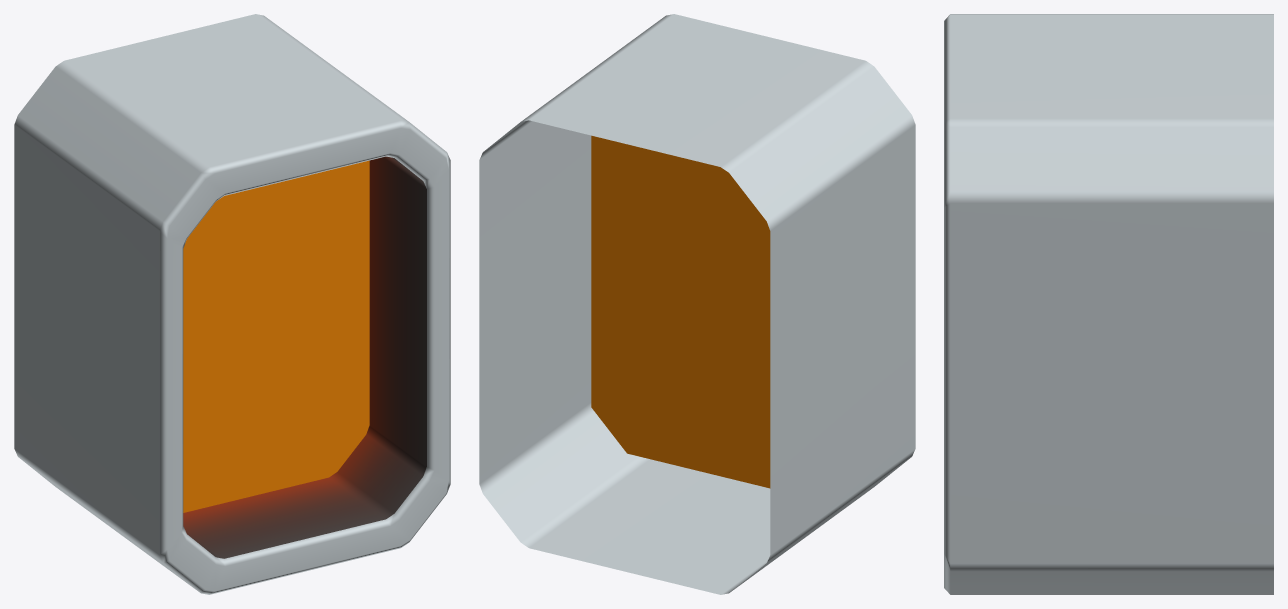
The model's file is heatsink_001.fbx.
3 renders of one model, left to right at view 1: azimuth 30°, elevation 25°; view 2: azimuth 150°, elevation 25°; view 3: azimuth 270°, elevation 25°, orthographic. The views are drawn at different scales.
Parts seen in each view (by area): view 1: heatsink_001; view 2: heatsink_001; view 3: heatsink_001.
Boxes of the visible parts, bbox=[...] form: heatsink_001: bbox=[14, 14, 450, 594]; heatsink_001: bbox=[479, 14, 915, 594]; heatsink_001: bbox=[944, 14, 1273, 594].
Size of the model in its own units: 421 by 372 by 592.
